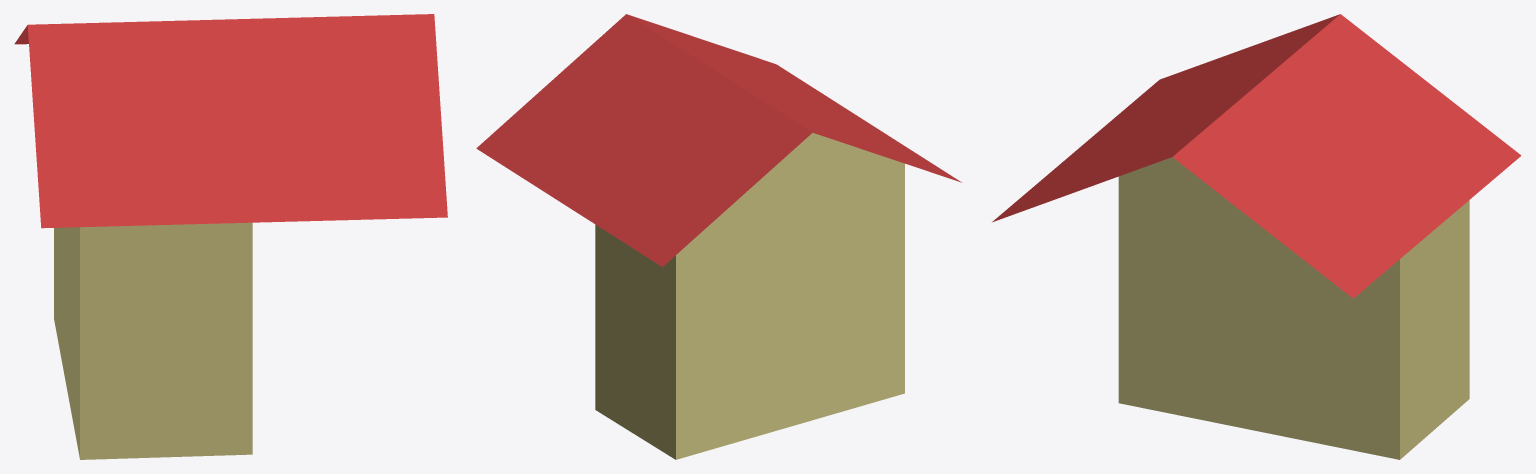
The picture shows the model from 3 angles, left to right: view 1: azimuth 30°, elevation 25°; view 2: azimuth 150°, elevation 25°; view 3: azimuth 270°, elevation 25°; orthographic projection. The views are drawn at different scales.
Size of the model in its own units: 9.97 by 10.2 by 7.25.
